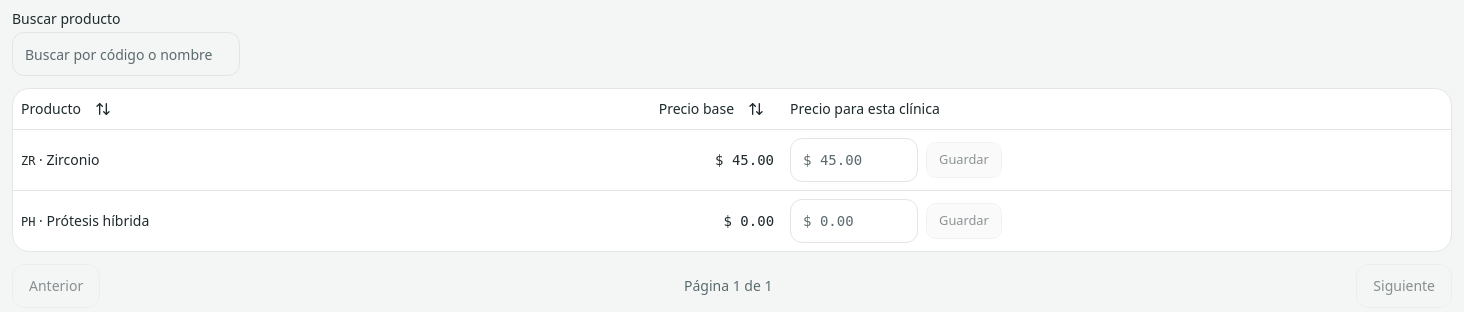
Test: ClinicPricesTable › al escribir «zir» solo queda «Zirconio» (UX1-04)
Expected: the text "ZR · Zirconio" is shown, [21, 150, 100, 168]
In the search field labelled "Buscar producto": (126, 54) [12, 32, 240, 76], type "zir"
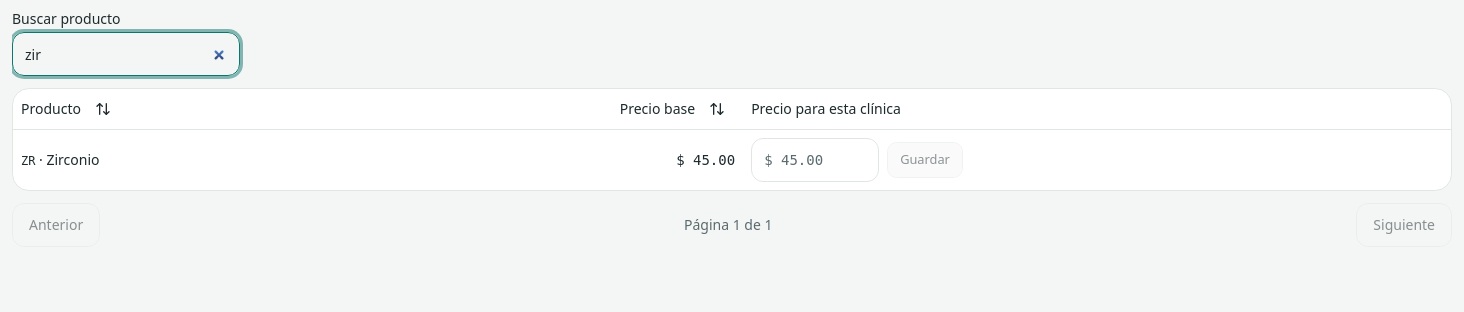
Expected: the text "ZR · Zirconio" is shown, [21, 150, 100, 168]
Result: the text "Prótesis híbrida" is gone
